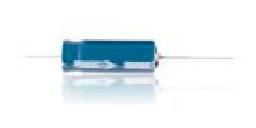Electrolytic Capacitor: (20, 34, 246, 84)
